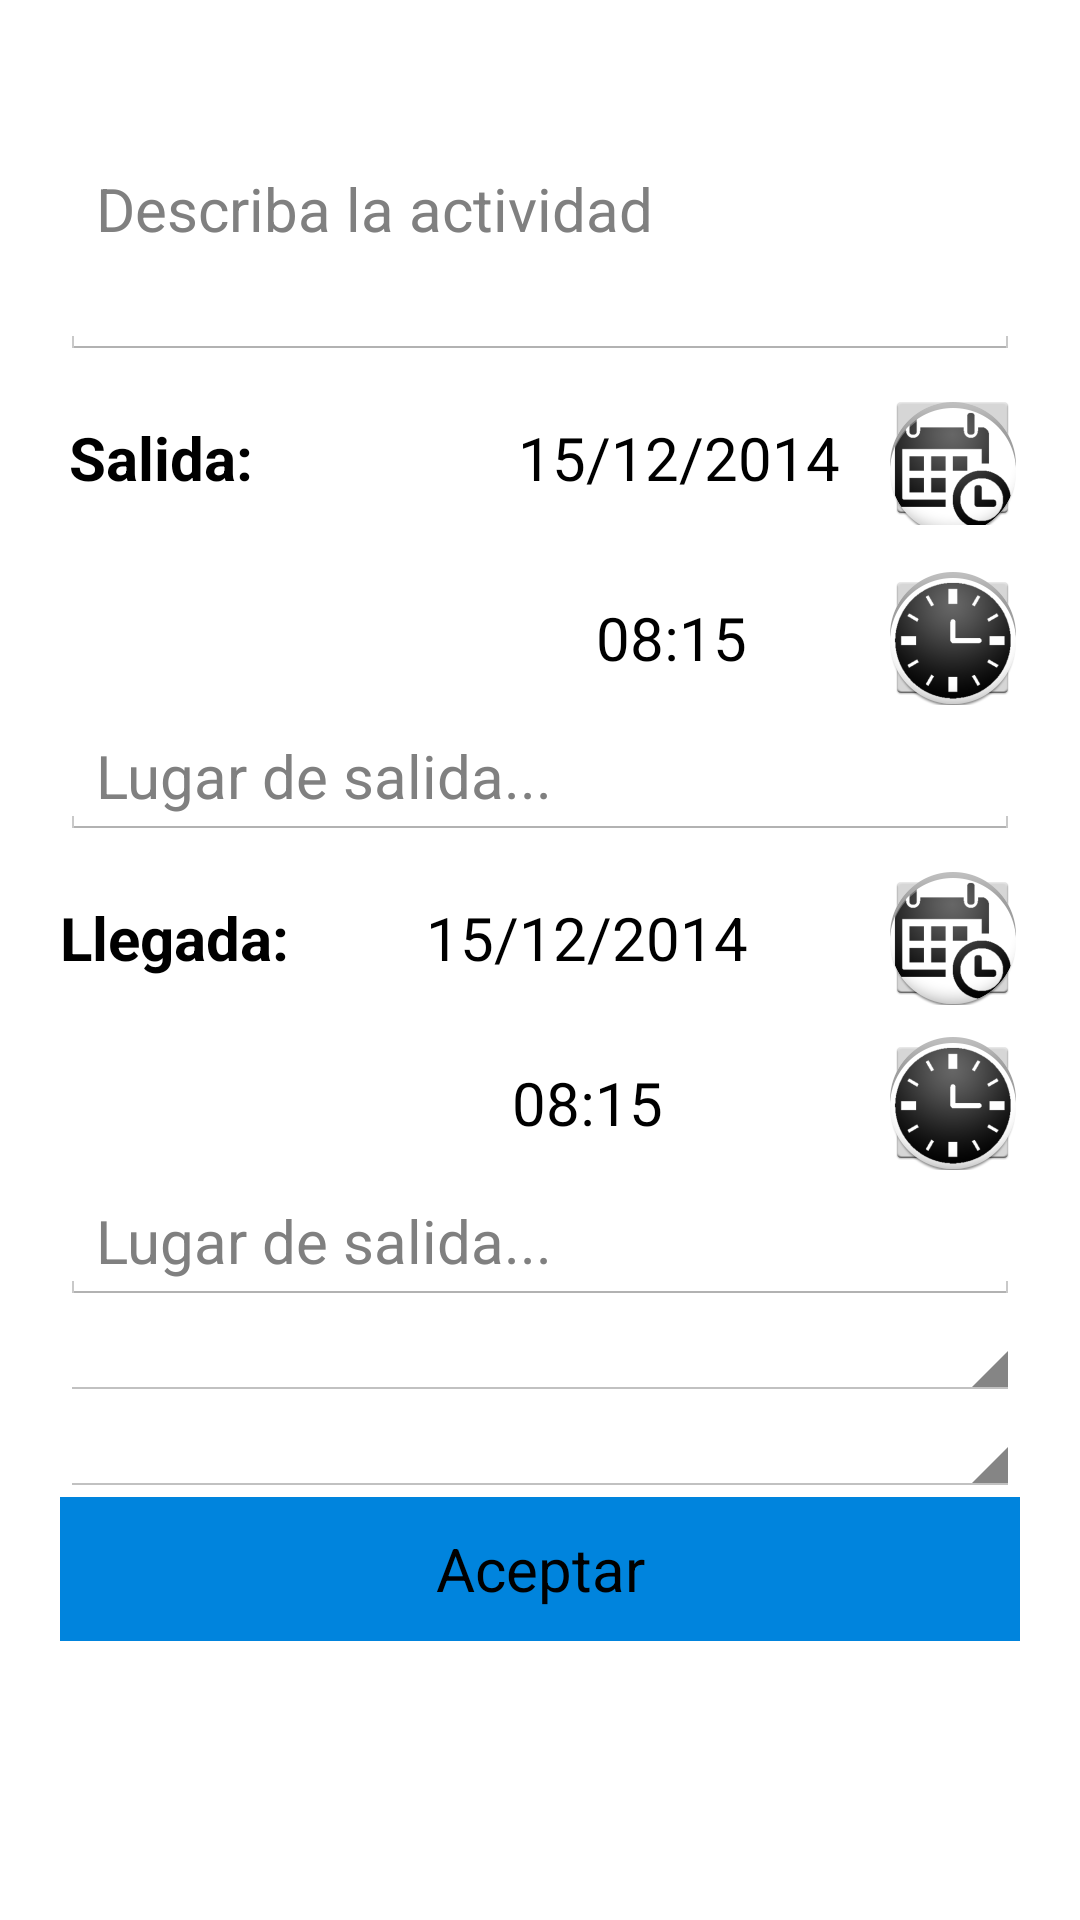

Icon bounding boxes for this 1080px x 1920px phone screenshot, format (x1, y1, x2, y2):
calendario: (890, 402, 1016, 525), (890, 872, 1016, 1005)
reloj: (890, 572, 1016, 705), (890, 1037, 1016, 1170)
